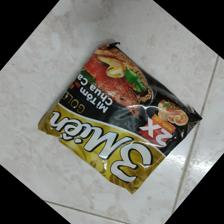3mien: (37, 41, 203, 195)
